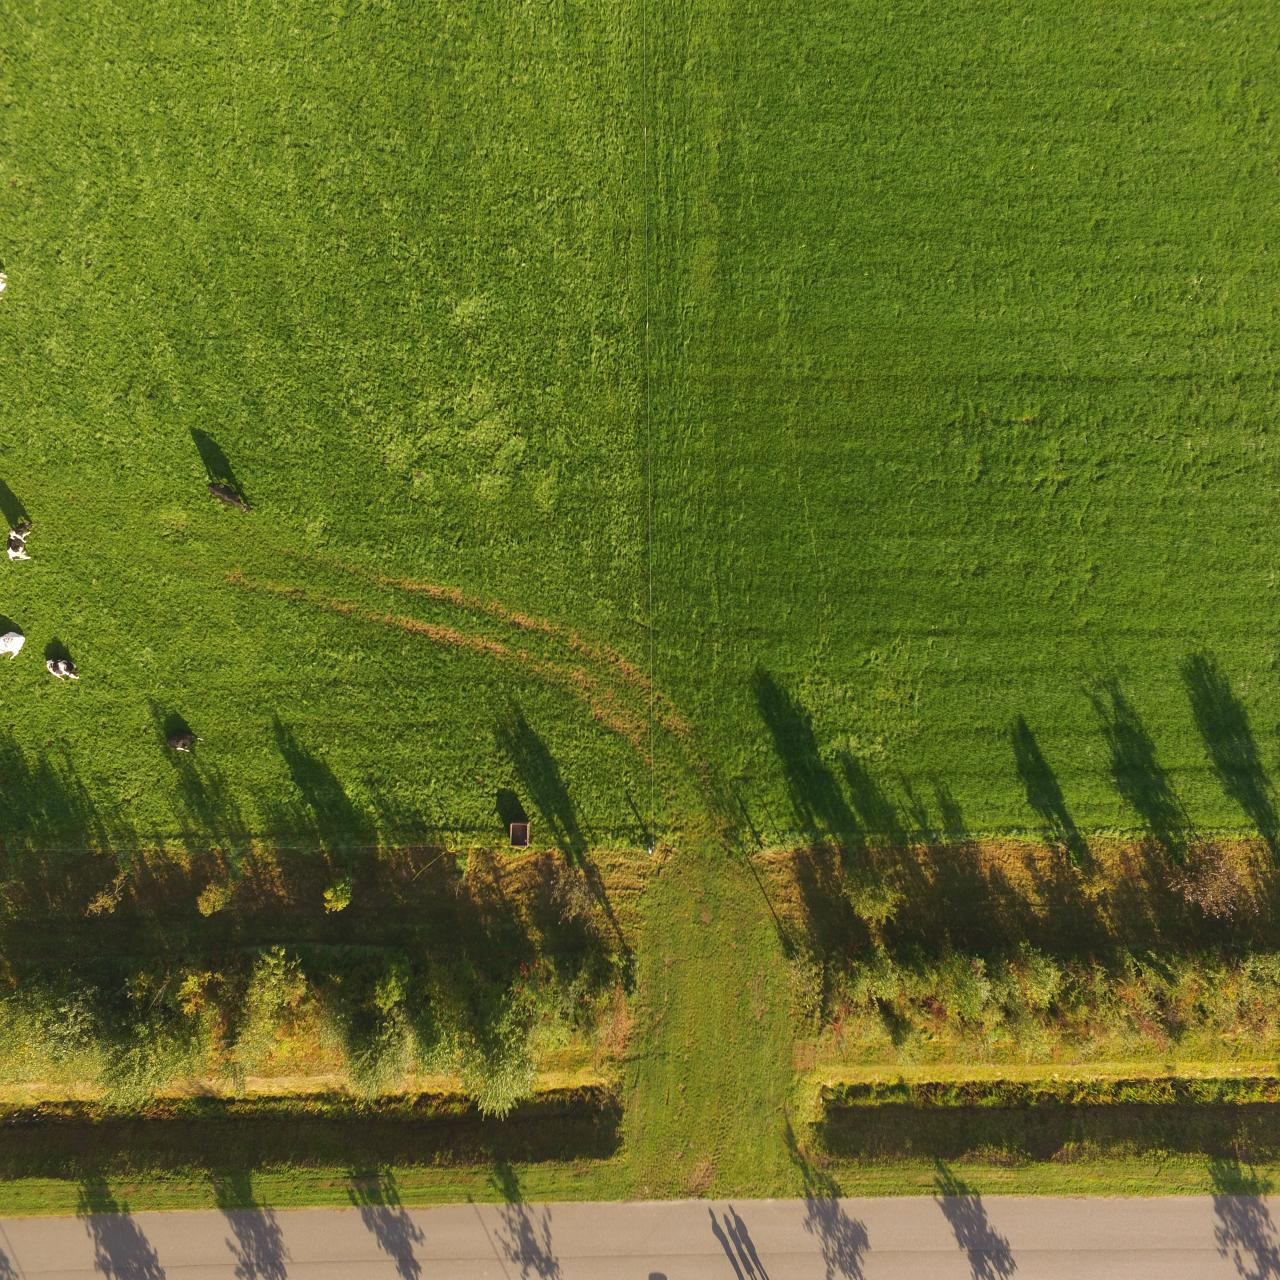cow: (204, 478, 252, 518), (7, 518, 34, 568), (166, 731, 205, 760), (43, 659, 82, 685)
